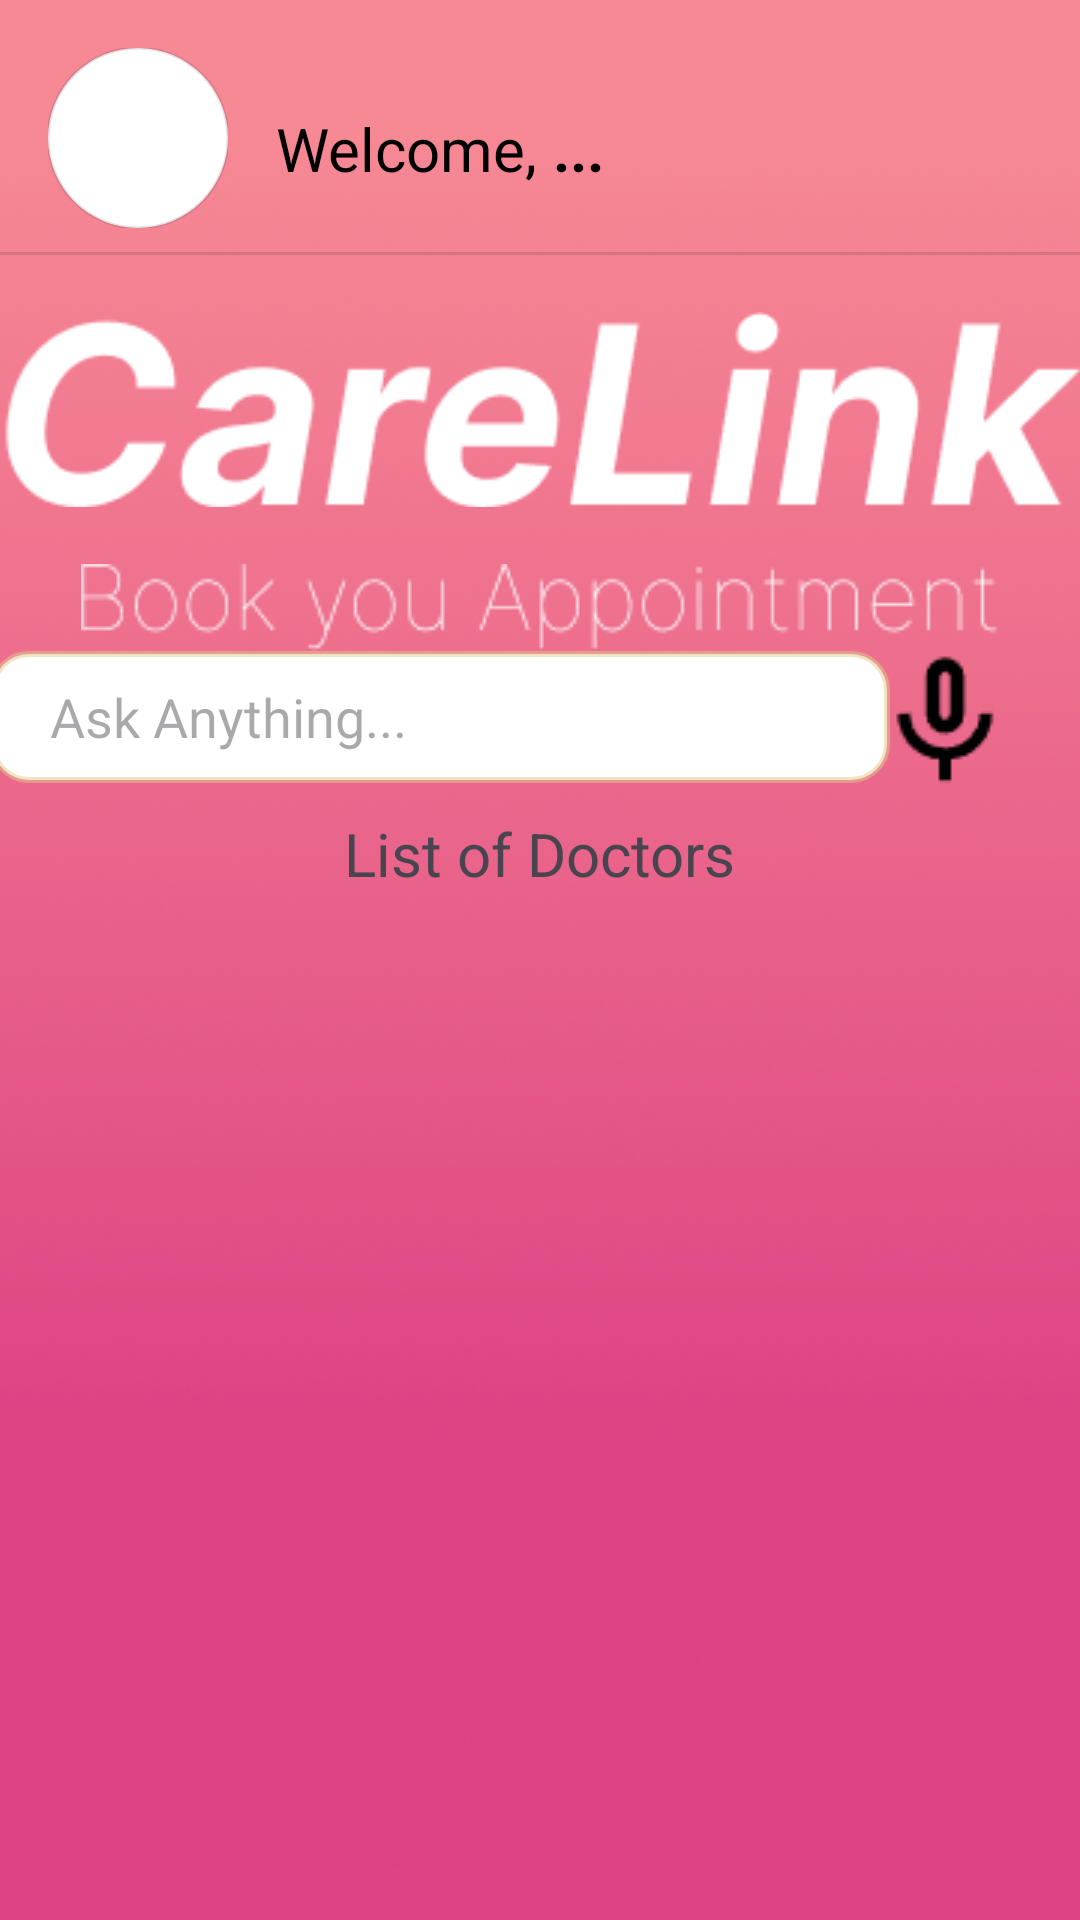

Locate icon controls on the screen. Image size 1080px x 1920px, boxes as (x1, y1, x2, y2).
mic: (896, 656, 994, 782)
